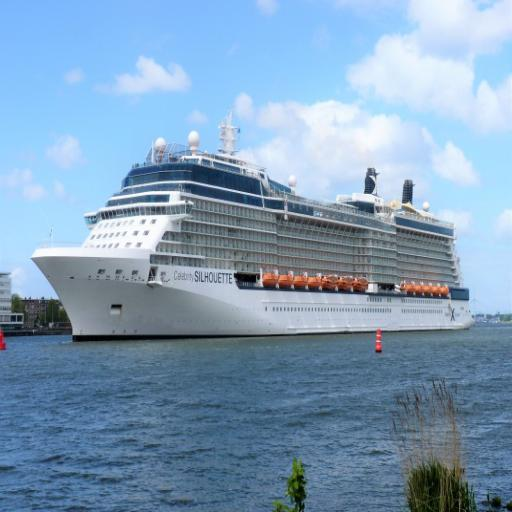cruises: (28, 99, 477, 344)
